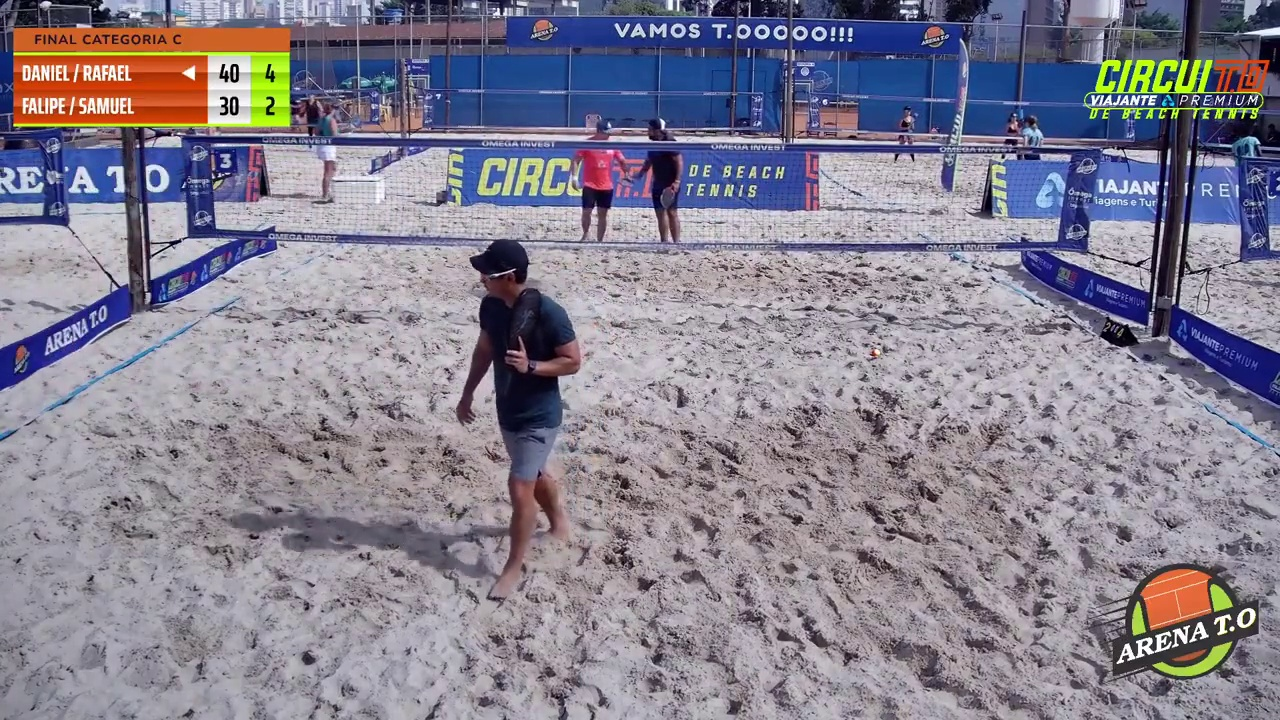court_line: (517, 0, 673, 463), (631, 0, 809, 398)
